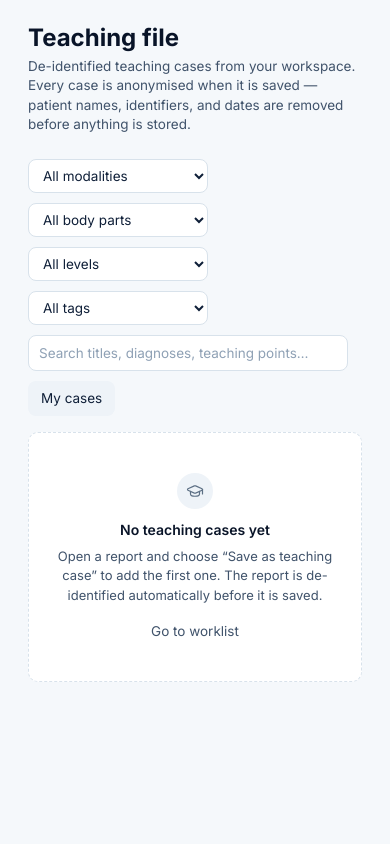
it: TeachingLibraryPage › shows a distinct "no matches" empty state once a filter is applied
This screenshot has width=390, height=844.
Check: the text "No teaching cases yet" is shown, box [120,520,270,539]
Type "pneumothorax" into the search field named "search teaching cases" at coordinates (188, 353), box [28,335,348,371]
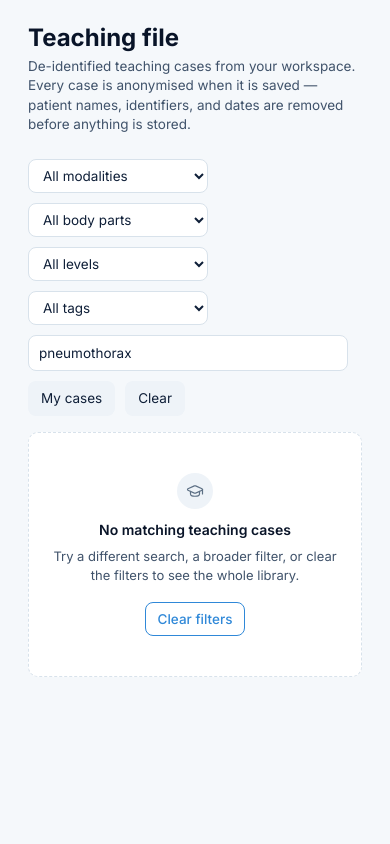
Check: the text "No matching teaching cases" is shown, box [99,520,291,539]
